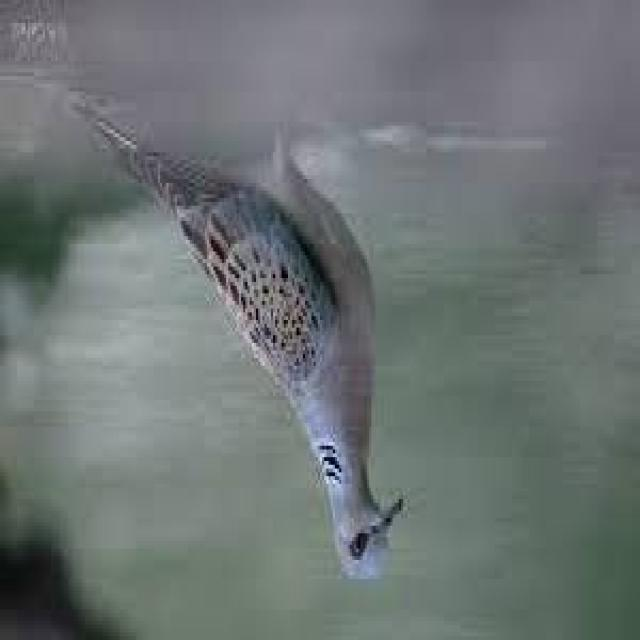pigeon: (58, 87, 407, 587)
